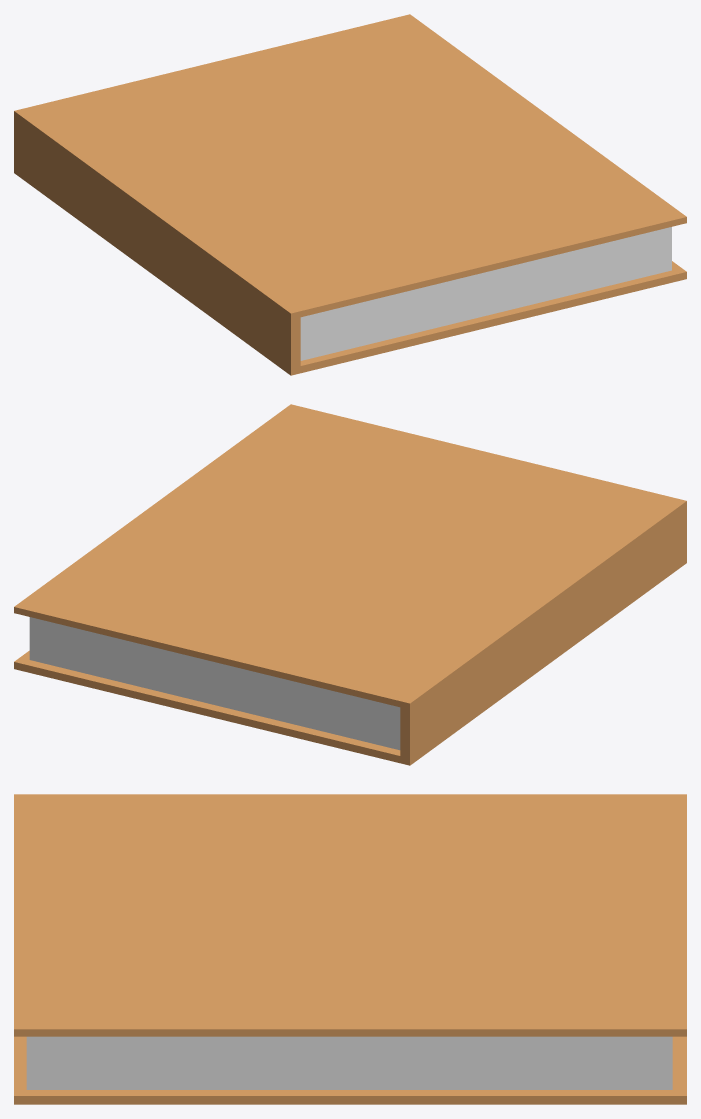
File: book.glb
The picture shows the model from 3 angles, top to bottom: view 1: azimuth 30°, elevation 25°; view 2: azimuth 150°, elevation 25°; view 3: azimuth 270°, elevation 25°; orthographic projection. The views are drawn at different scales.
Visible parts, largest first — view 1: Book; view 2: Book; view 3: Book.
Part boxes in pixels (x1,y1,x2,y2): Book: [14, 14, 686, 375]; Book: [14, 404, 686, 765]; Book: [14, 794, 686, 1104].
Bounding box in the file's own units: 1268 × 190 × 1535.
